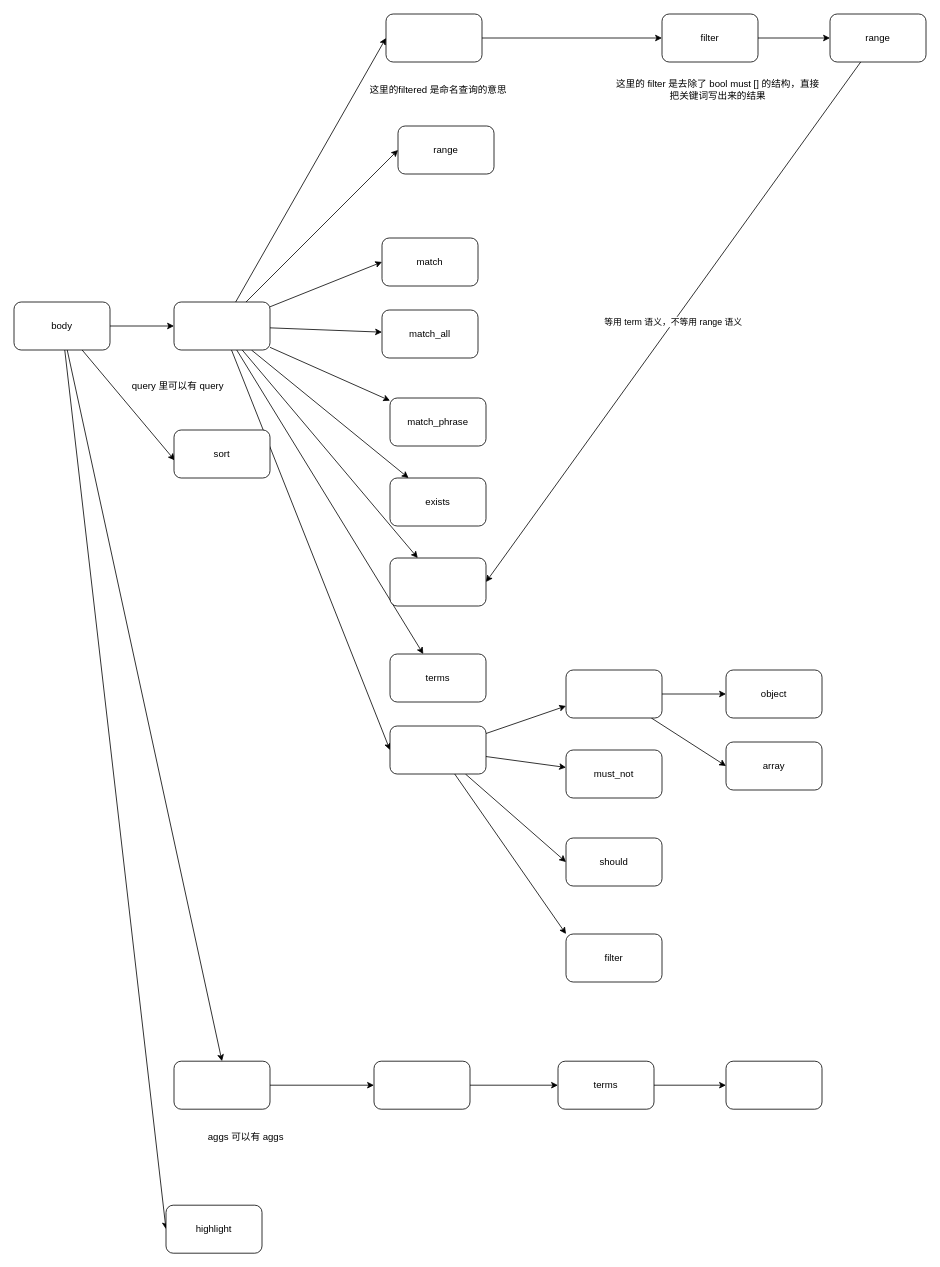
Image size: 940x1267. Some labels were removed from this diagram. Each missing label, with the centre of its shape:
"agg 名称" belongs at [421,1084].
"aggs" belongs at [221,1084].
"bool" belongs at [437,749].
"field" belongs at [773,1084].
"filtered" belongs at [433,37].
"must" belongs at [613,693].
"query" belongs at [221,325].
"term" belongs at [437,581].
